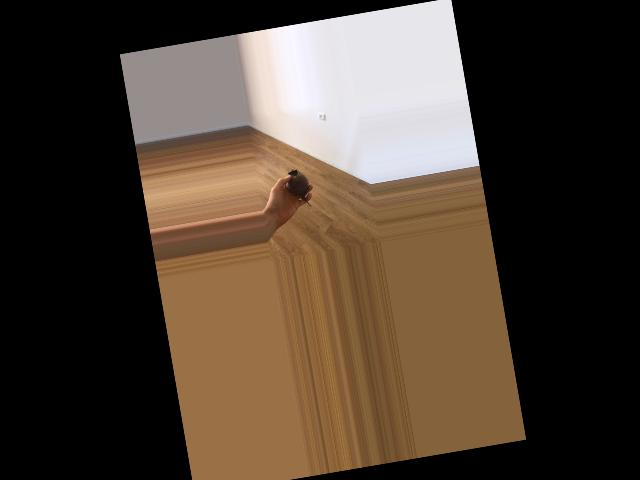beet: (284, 167, 313, 209)
